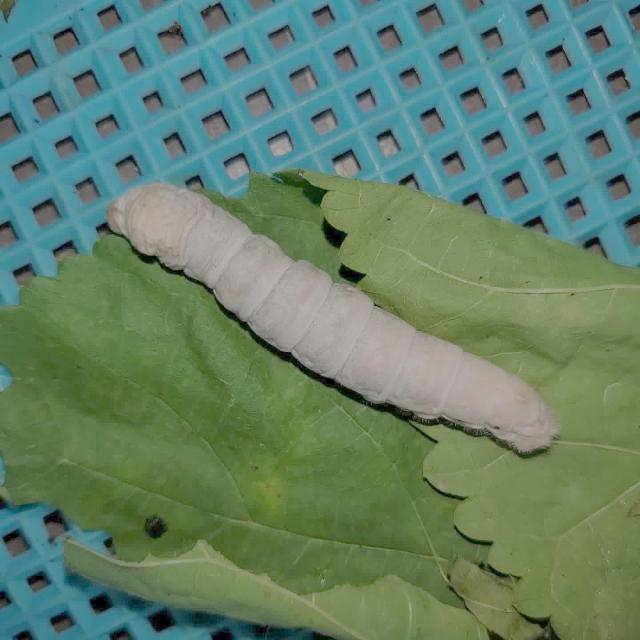Grasserie: (89, 152, 582, 484)
